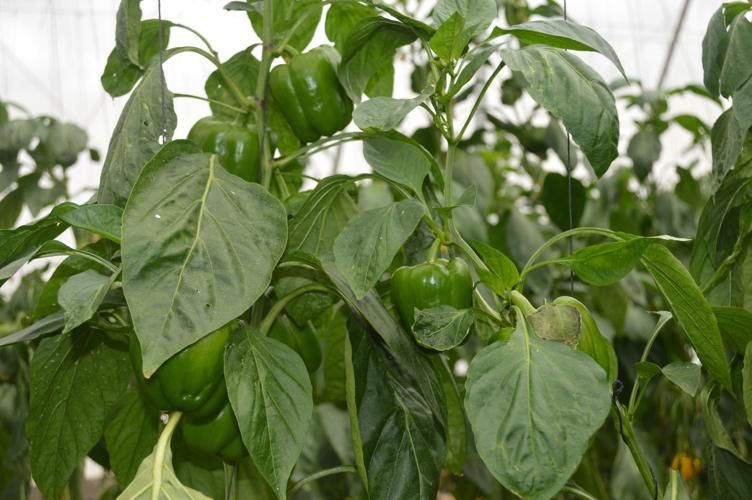BellPepper: (119, 310, 232, 420), (264, 41, 360, 146), (177, 99, 274, 198), (386, 248, 478, 342)
